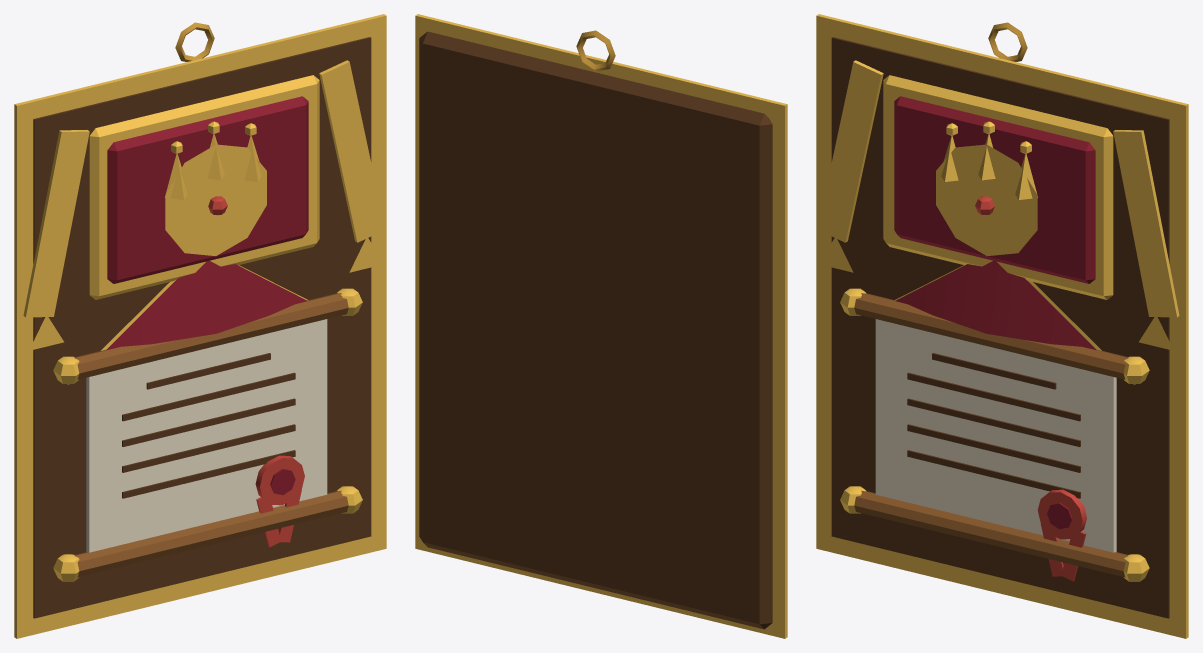
Rendered from PR_Decor_KraliyetFermani.fbx.
The picture shows the model from 3 angles, left to right: view 1: azimuth 30°, elevation 25°; view 2: azimuth 150°, elevation 25°; view 3: azimuth 330°, elevation 25°; orthographic projection.
Parts seen in each view (by area): view 1: PR_Decor_KraliyetFermani; view 2: PR_Decor_KraliyetFermani; view 3: PR_Decor_KraliyetFermani.
Boxes of the visible parts, x1,y1,x2,y2 form: PR_Decor_KraliyetFermani: (14, 14, 386, 638); PR_Decor_KraliyetFermani: (415, 14, 787, 638); PR_Decor_KraliyetFermani: (816, 14, 1188, 638).
Size of the model in its own units: 0.9 by 1.32 by 0.137.
